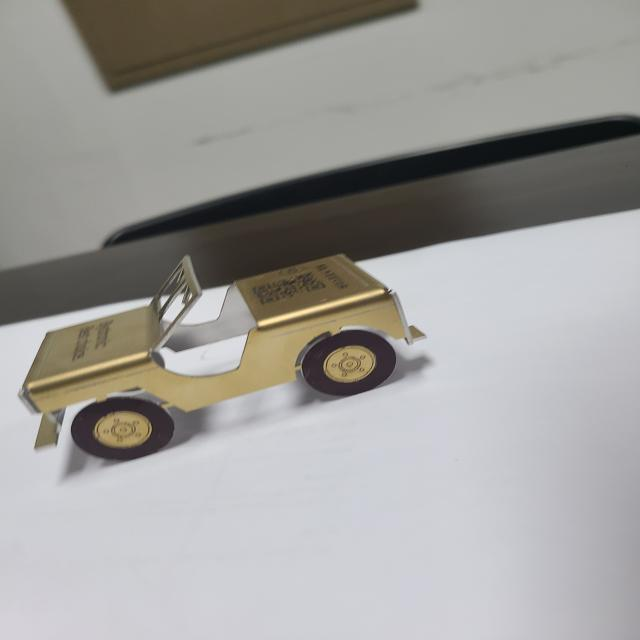tire: (72, 396, 178, 462), (303, 330, 396, 397)
